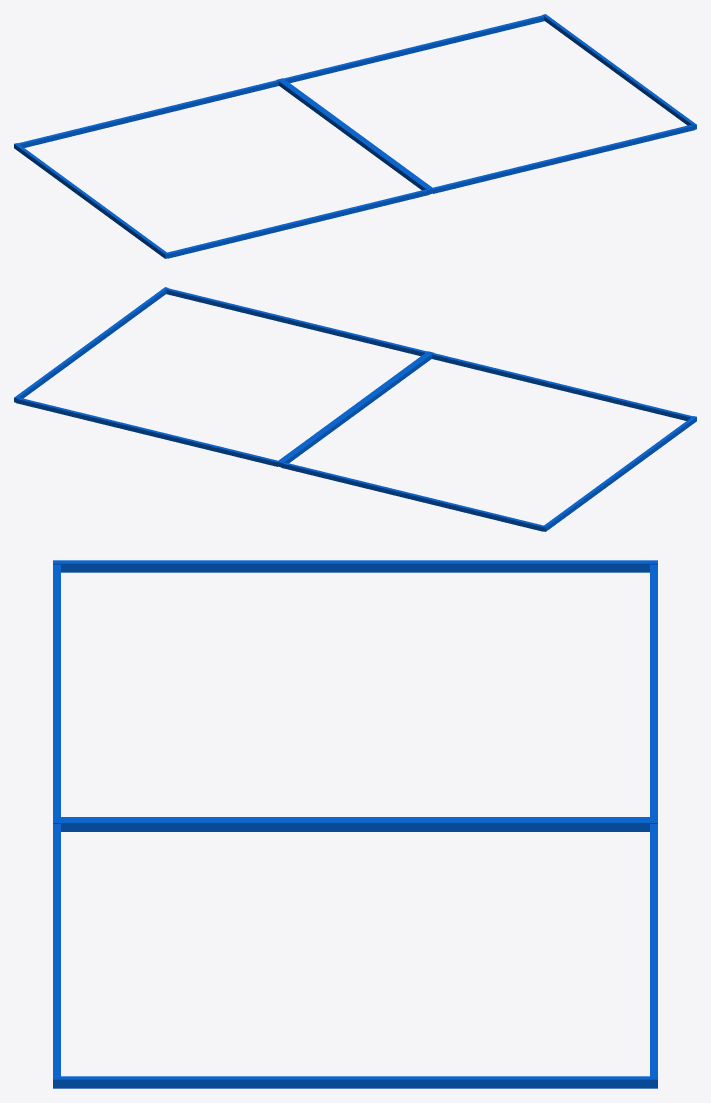
Rendered from S_01_Roof_Metal_02.fbx.
3 views of the same model, one above another, from view 1: azimuth 30°, elevation 25°; view 2: azimuth 150°, elevation 25°; view 3: azimuth 270°, elevation 25° (orthographic). The views are drawn at different scales.
Parts seen in each view (by area): view 1: S_01_Roof_Metal_02; view 2: S_01_Roof_Metal_02; view 3: S_01_Roof_Metal_02.
Part boxes in pixels (bbox=[...]): S_01_Roof_Metal_02: bbox=[14, 14, 696, 258]; S_01_Roof_Metal_02: bbox=[14, 287, 696, 531]; S_01_Roof_Metal_02: bbox=[53, 560, 657, 1088].
Bounding box in the file's own units: 1811 × 16.08 × 892.
